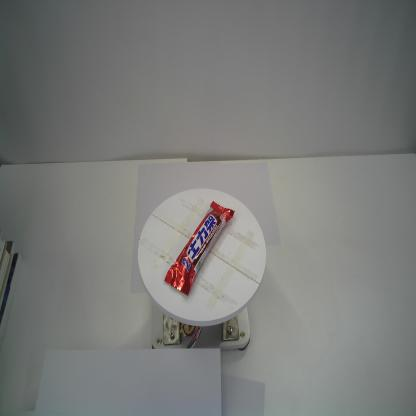Chocolate: (163, 200, 235, 296)
